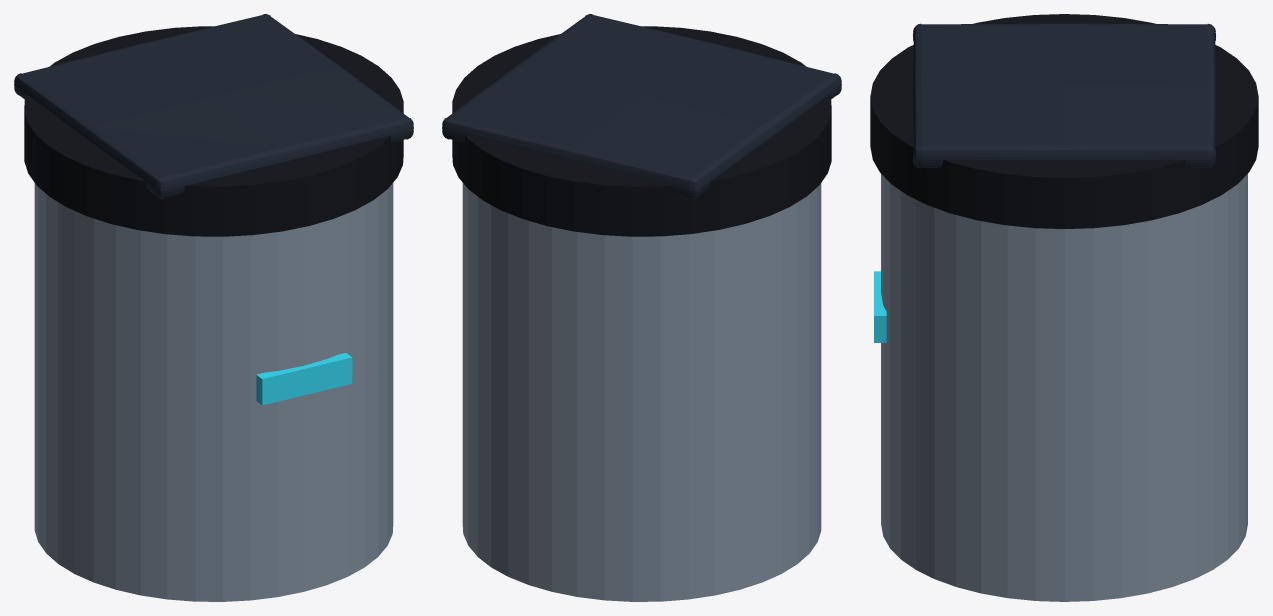
Rendered from 35_PS_SmartMinimalDustbin.fbx.
The picture shows the model from 3 angles, left to right: view 1: azimuth 30°, elevation 25°; view 2: azimuth 150°, elevation 25°; view 3: azimuth 270°, elevation 25°; orthographic projection. The views are drawn at different scales.
Parts seen in each view (by area): view 1: PS_SmartMinimalDustbin; view 2: PS_SmartMinimalDustbin; view 3: PS_SmartMinimalDustbin.
Part boxes in pixels (box(x1,y1,x2,y2)): PS_SmartMinimalDustbin: box(14, 14, 413, 601); PS_SmartMinimalDustbin: box(442, 14, 841, 601); PS_SmartMinimalDustbin: box(870, 14, 1258, 601).
Size of the model in its own units: 55 by 68.75 by 55.
